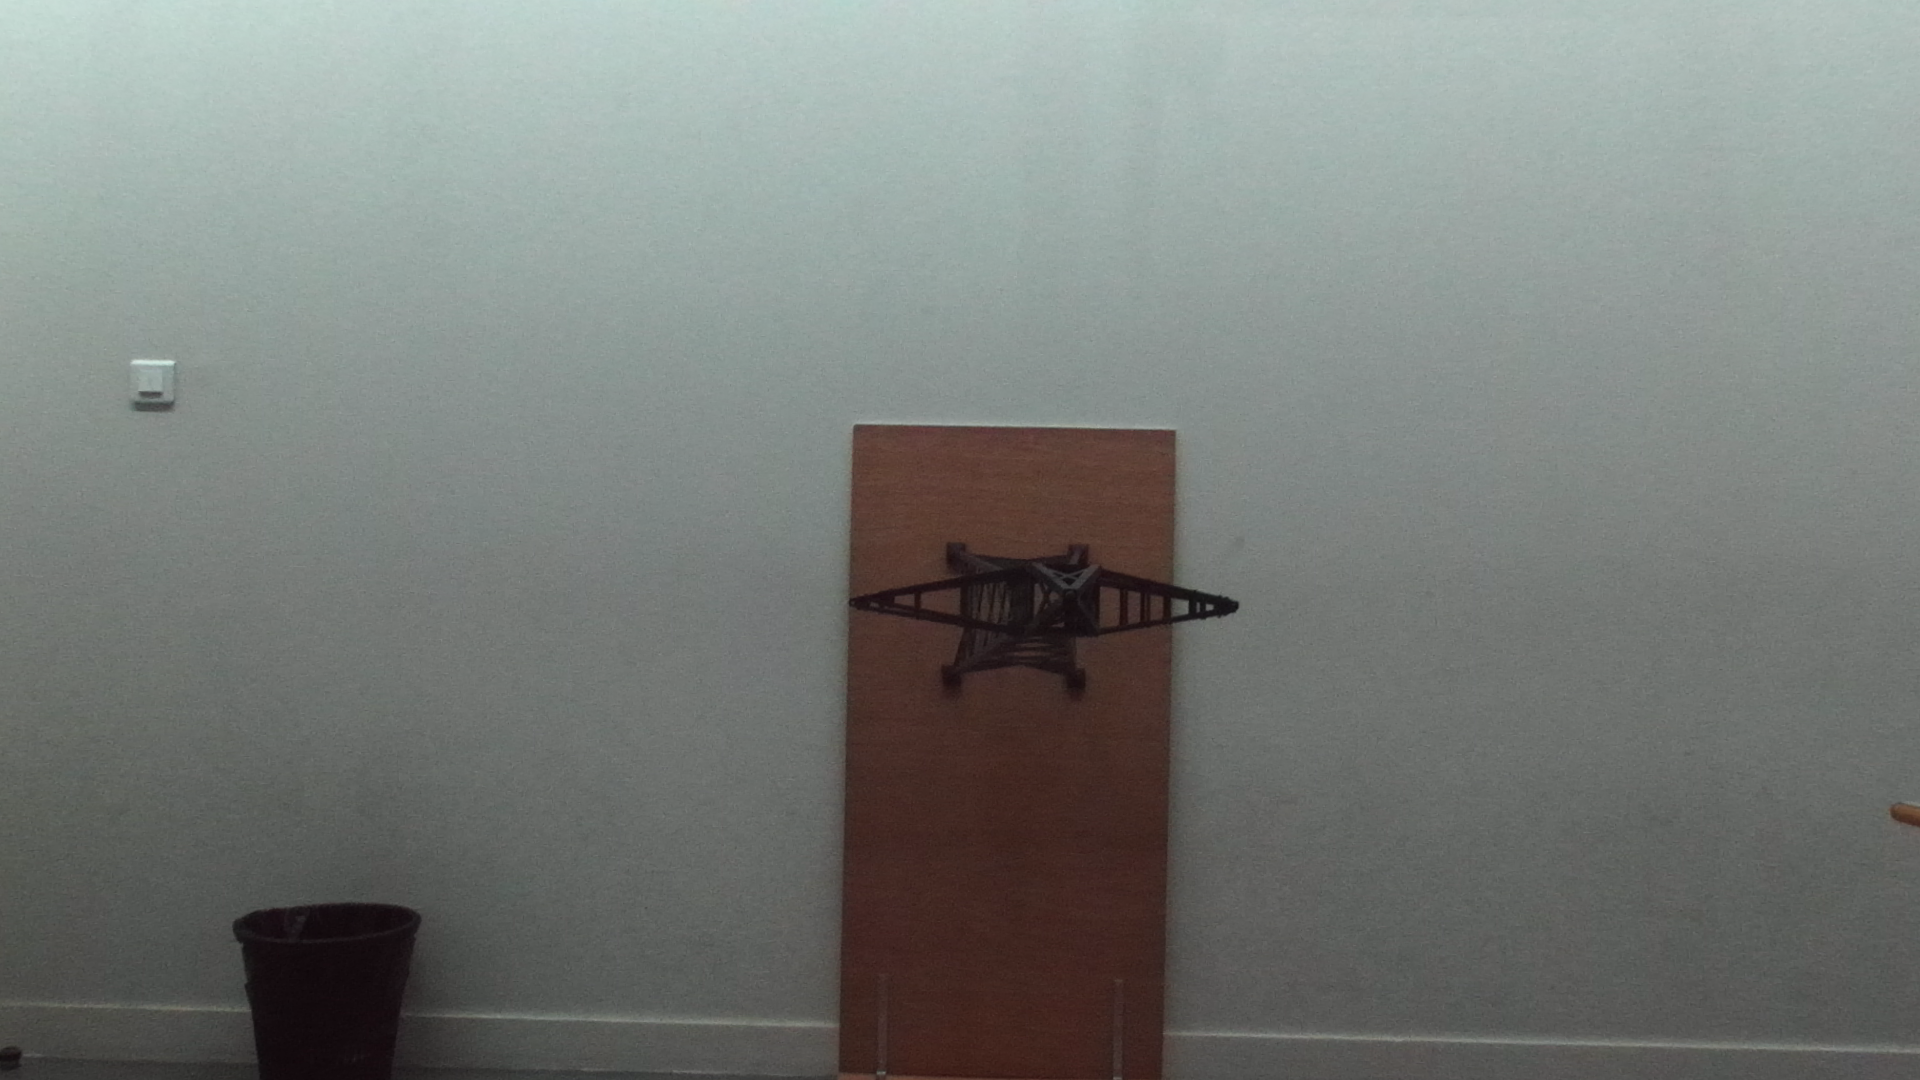pylon_phy: (873, 560, 1241, 644)
